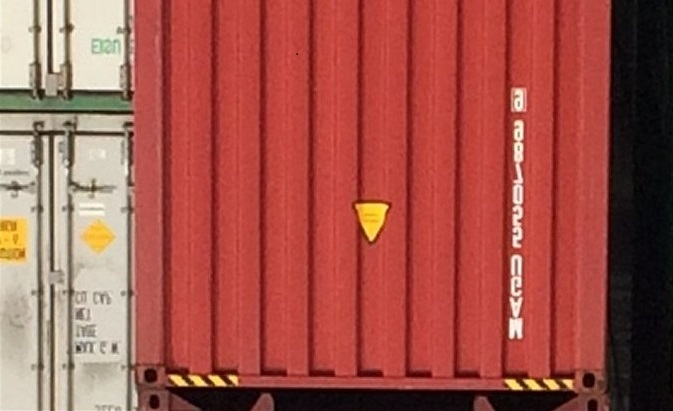container_door: (2, 109, 132, 411)
container_no_door: (135, 1, 606, 384)
